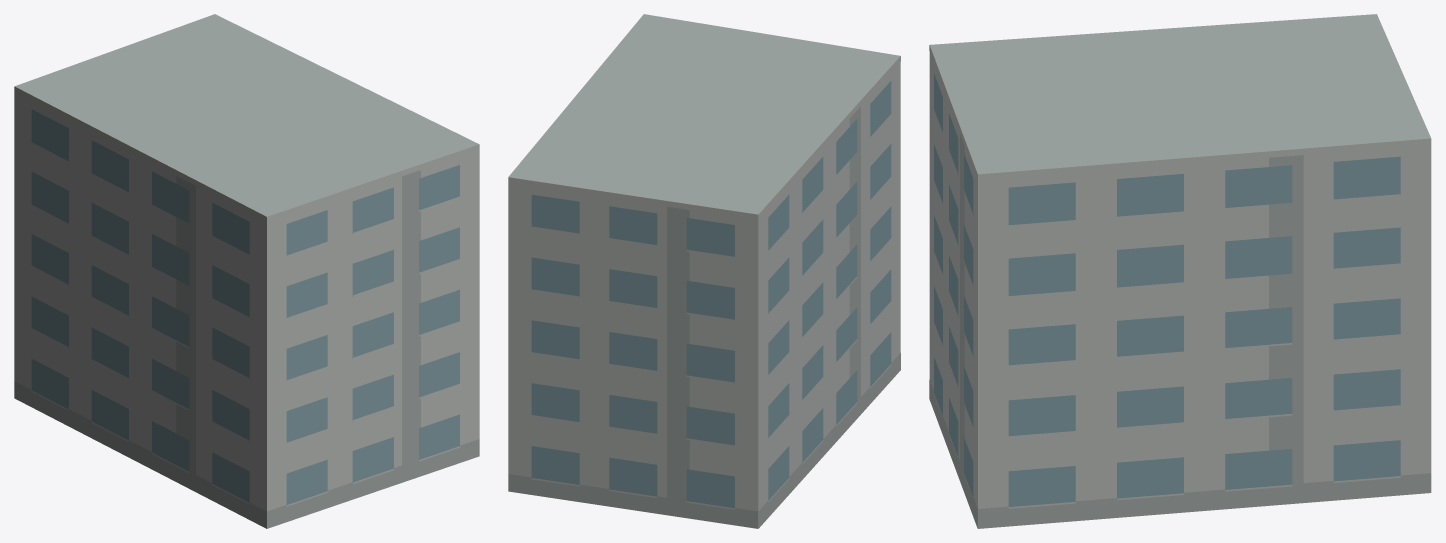
Rendered from survey-upis-32656987.glb.
3 views of the same model, side by side, from view 1: azimuth 30°, elevation 25°; view 2: azimuth 150°, elevation 25°; view 3: azimuth 270°, elevation 25° (orthographic). The views are drawn at different scales.
Parts seen in each view (by area): view 1: survey-upis-32656987.tmp; view 2: survey-upis-32656987.tmp; view 3: survey-upis-32656987.tmp.
Boxes of the visible parts, x1=… form: survey-upis-32656987.tmp: x1=14, y1=14, x2=479, y2=528; survey-upis-32656987.tmp: x1=508, y1=14, x2=900, y2=528; survey-upis-32656987.tmp: x1=929, y1=14, x2=1431, y2=528.
Bounding box in the file's own units: 12.92 × 13.3 × 17.07.
